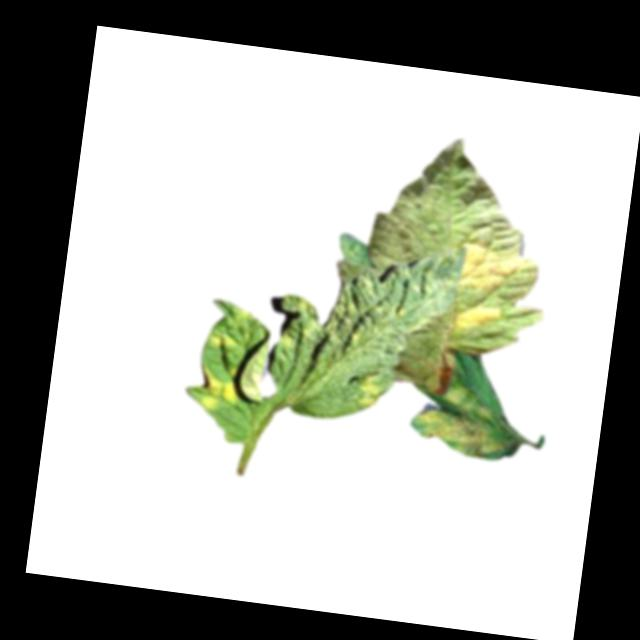Leaf_Mold: (405, 378, 511, 461), (457, 239, 533, 301), (449, 301, 507, 340), (197, 365, 243, 414), (351, 367, 386, 413), (207, 327, 238, 352)
